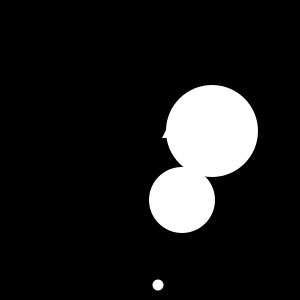rectangle: (166, 85, 258, 177), (149, 167, 215, 233), (152, 280, 163, 290)
triangle: (162, 121, 179, 138)
